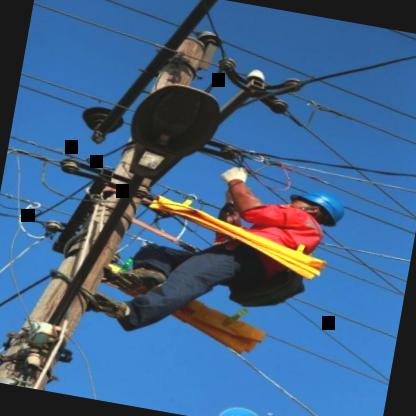helmet: (288, 183, 350, 231), (209, 397, 268, 416)
